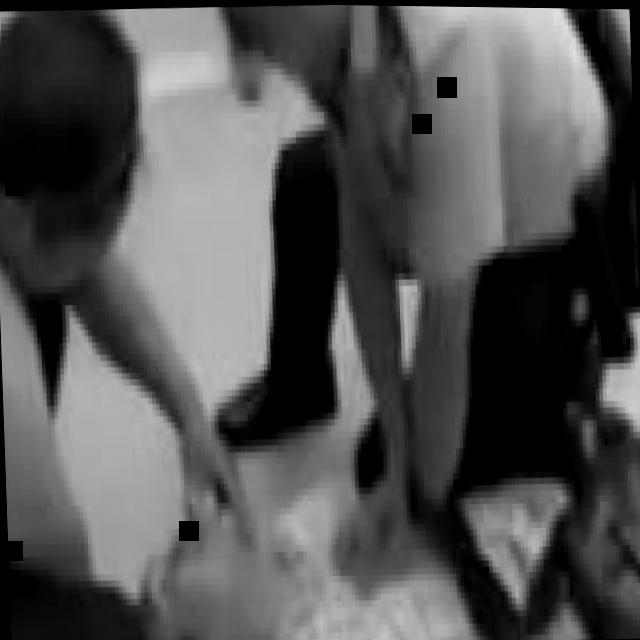Fall-Detected: (102, 410, 640, 640)
